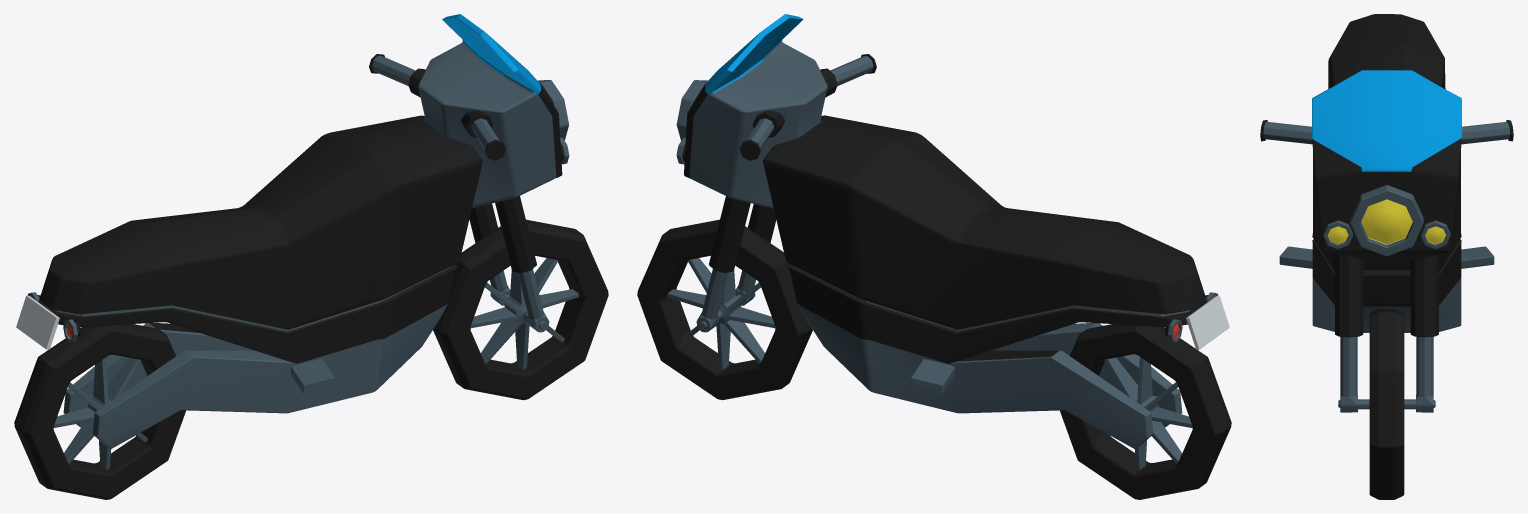
Rendered from bike.glb.
The picture shows the model from 3 angles, left to right: view 1: azimuth 30°, elevation 25°; view 2: azimuth 150°, elevation 25°; view 3: azimuth 270°, elevation 25°; orthographic projection. The views are drawn at different scales.
Visible parts, largest first — view 1: Circle.001_Circle.007; view 2: Circle.001_Circle.007; view 3: Circle.001_Circle.007.
Part boxes in pixels (box(x1,y1,x2,y2)): Circle.001_Circle.007: box(14, 14, 608, 499); Circle.001_Circle.007: box(637, 14, 1231, 499); Circle.001_Circle.007: box(1260, 14, 1513, 499).
Bounding box in the file's own units: 15.77 × 9.93 × 5.68.
